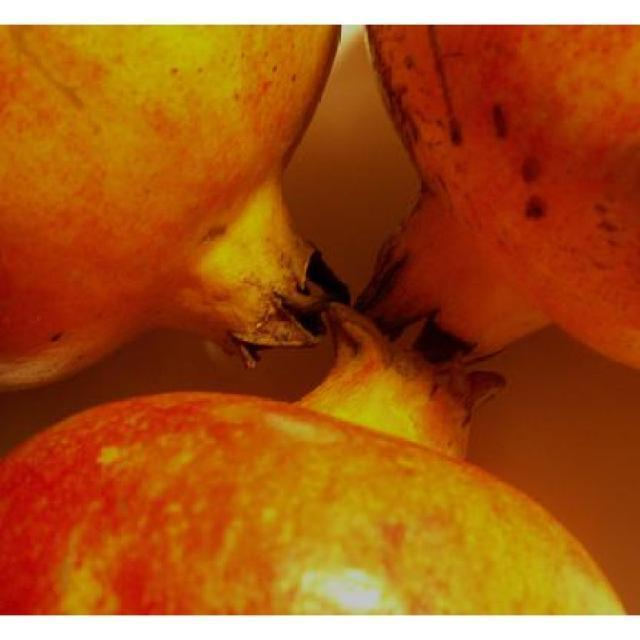Pomegranate: (0, 296, 625, 609), (0, 22, 342, 396)
